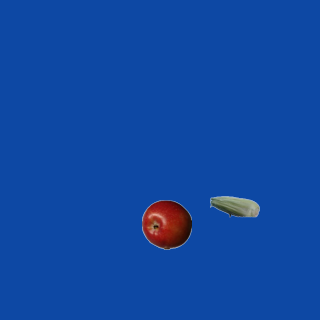Apple Braeburn: (141, 199, 191, 249)
Corn Husk: (209, 181, 259, 231)
